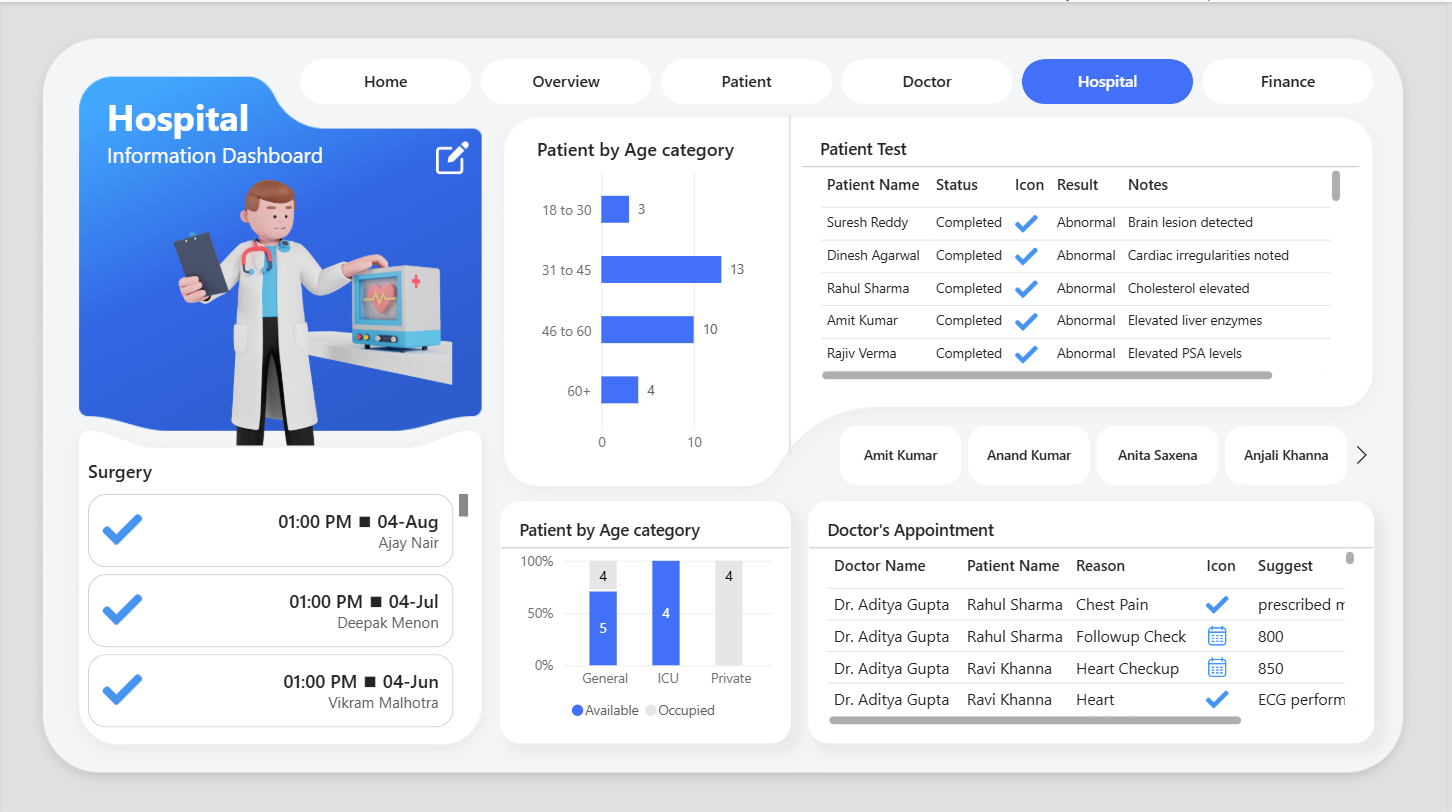

Layout of this report page (visuals, bound fields, positions):
{"tool":"powerbi","page":{"name":"Hospital","canvas":[1280,720],"ordinal":4},"visuals":[{"type":"image","box":[139.1,131,260,264.1],"z":0},{"type":"textbox","box":[92.7,79.6,207.6,75.6],"z":1000},{"type":"image","box":[384.8,120.6,29.3,34.6],"z":2000},{"type":"advancedSlicerVisual","title":"Surgery","fields":{"Values":["patient_info.Surgery_Appointment_Time_Date"]},"box":[76.6,405.2,337.6,239.9],"z":3000},{"type":"advancedSlicerVisual","title":"Ratings","fields":{"Values":["staff.name"]},"box":[722.6,375.9,493.9,52.4],"z":4000},{"type":"tableEx","title":"Doctor''s Appointment","fields":{"Values":["patient_info.doctor_name","patient_info.patient_name","appointment.reason","appointment.Status_Icon","appointment.suggest"]},"box":[714.6,442.5,501.9,214.7],"z":5000},{"type":"textbox","box":[601.7,0,101.8,99.8],"z":6000},{"type":"clusteredBarChart","title":"Patient by Age category","fields":{"Category":["patient_info.age_category"],"Y":["Key Measures.patient_count"]},"box":[458.6,105.8,222.7,314.5],"z":7000},{"type":"shape","box":[688.4,99.8,21.2,300],"z":8000},{"type":"tableEx","title":"Patient Test","fields":{"Values":["patient_info.patient_name","patient_tests.status","patient_tests.Test_Status_Icon","patient_tests.result","patient_tests.notes"]},"box":[709.5,105.8,493.9,244.9],"z":9000},{"type":"hundredPercentStackedColumnChart","title":"Patient by Age category","fields":{"Category":["beds_info.room_type"],"Y":["Sum(beds_info.beds)"],"Series":["beds_info.status"]},"box":[441.4,442.5,258,214.7],"z":10000},{"type":"pageNavigator","box":[264.1,50.4,952.4,40.3],"z":10001}]}

Visuals, with their boxes in screenshot pixels (x1, y1, x2, y2), scaled from the page's 1280x720 canvas onto the 1452x812 screenshot:
image: pyautogui.locateOnScreen(158, 148, 453, 446)
textbox: pyautogui.locateOnScreen(105, 90, 341, 175)
image: pyautogui.locateOnScreen(437, 136, 470, 175)
"Surgery" advancedSlicerVisual: pyautogui.locateOnScreen(87, 457, 470, 728)
"Ratings" advancedSlicerVisual: pyautogui.locateOnScreen(820, 424, 1380, 483)
"Doctor''s Appointment" tableEx: pyautogui.locateOnScreen(811, 499, 1380, 741)
textbox: pyautogui.locateOnScreen(683, 0, 798, 113)
"Patient by Age category" clusteredBarChart: pyautogui.locateOnScreen(520, 119, 773, 474)
shape: pyautogui.locateOnScreen(781, 113, 805, 451)
"Patient Test" tableEx: pyautogui.locateOnScreen(805, 119, 1365, 396)
"Patient by Age category" hundredPercentStackedColumnChart: pyautogui.locateOnScreen(501, 499, 793, 741)
pageNavigator: pyautogui.locateOnScreen(300, 57, 1380, 102)
